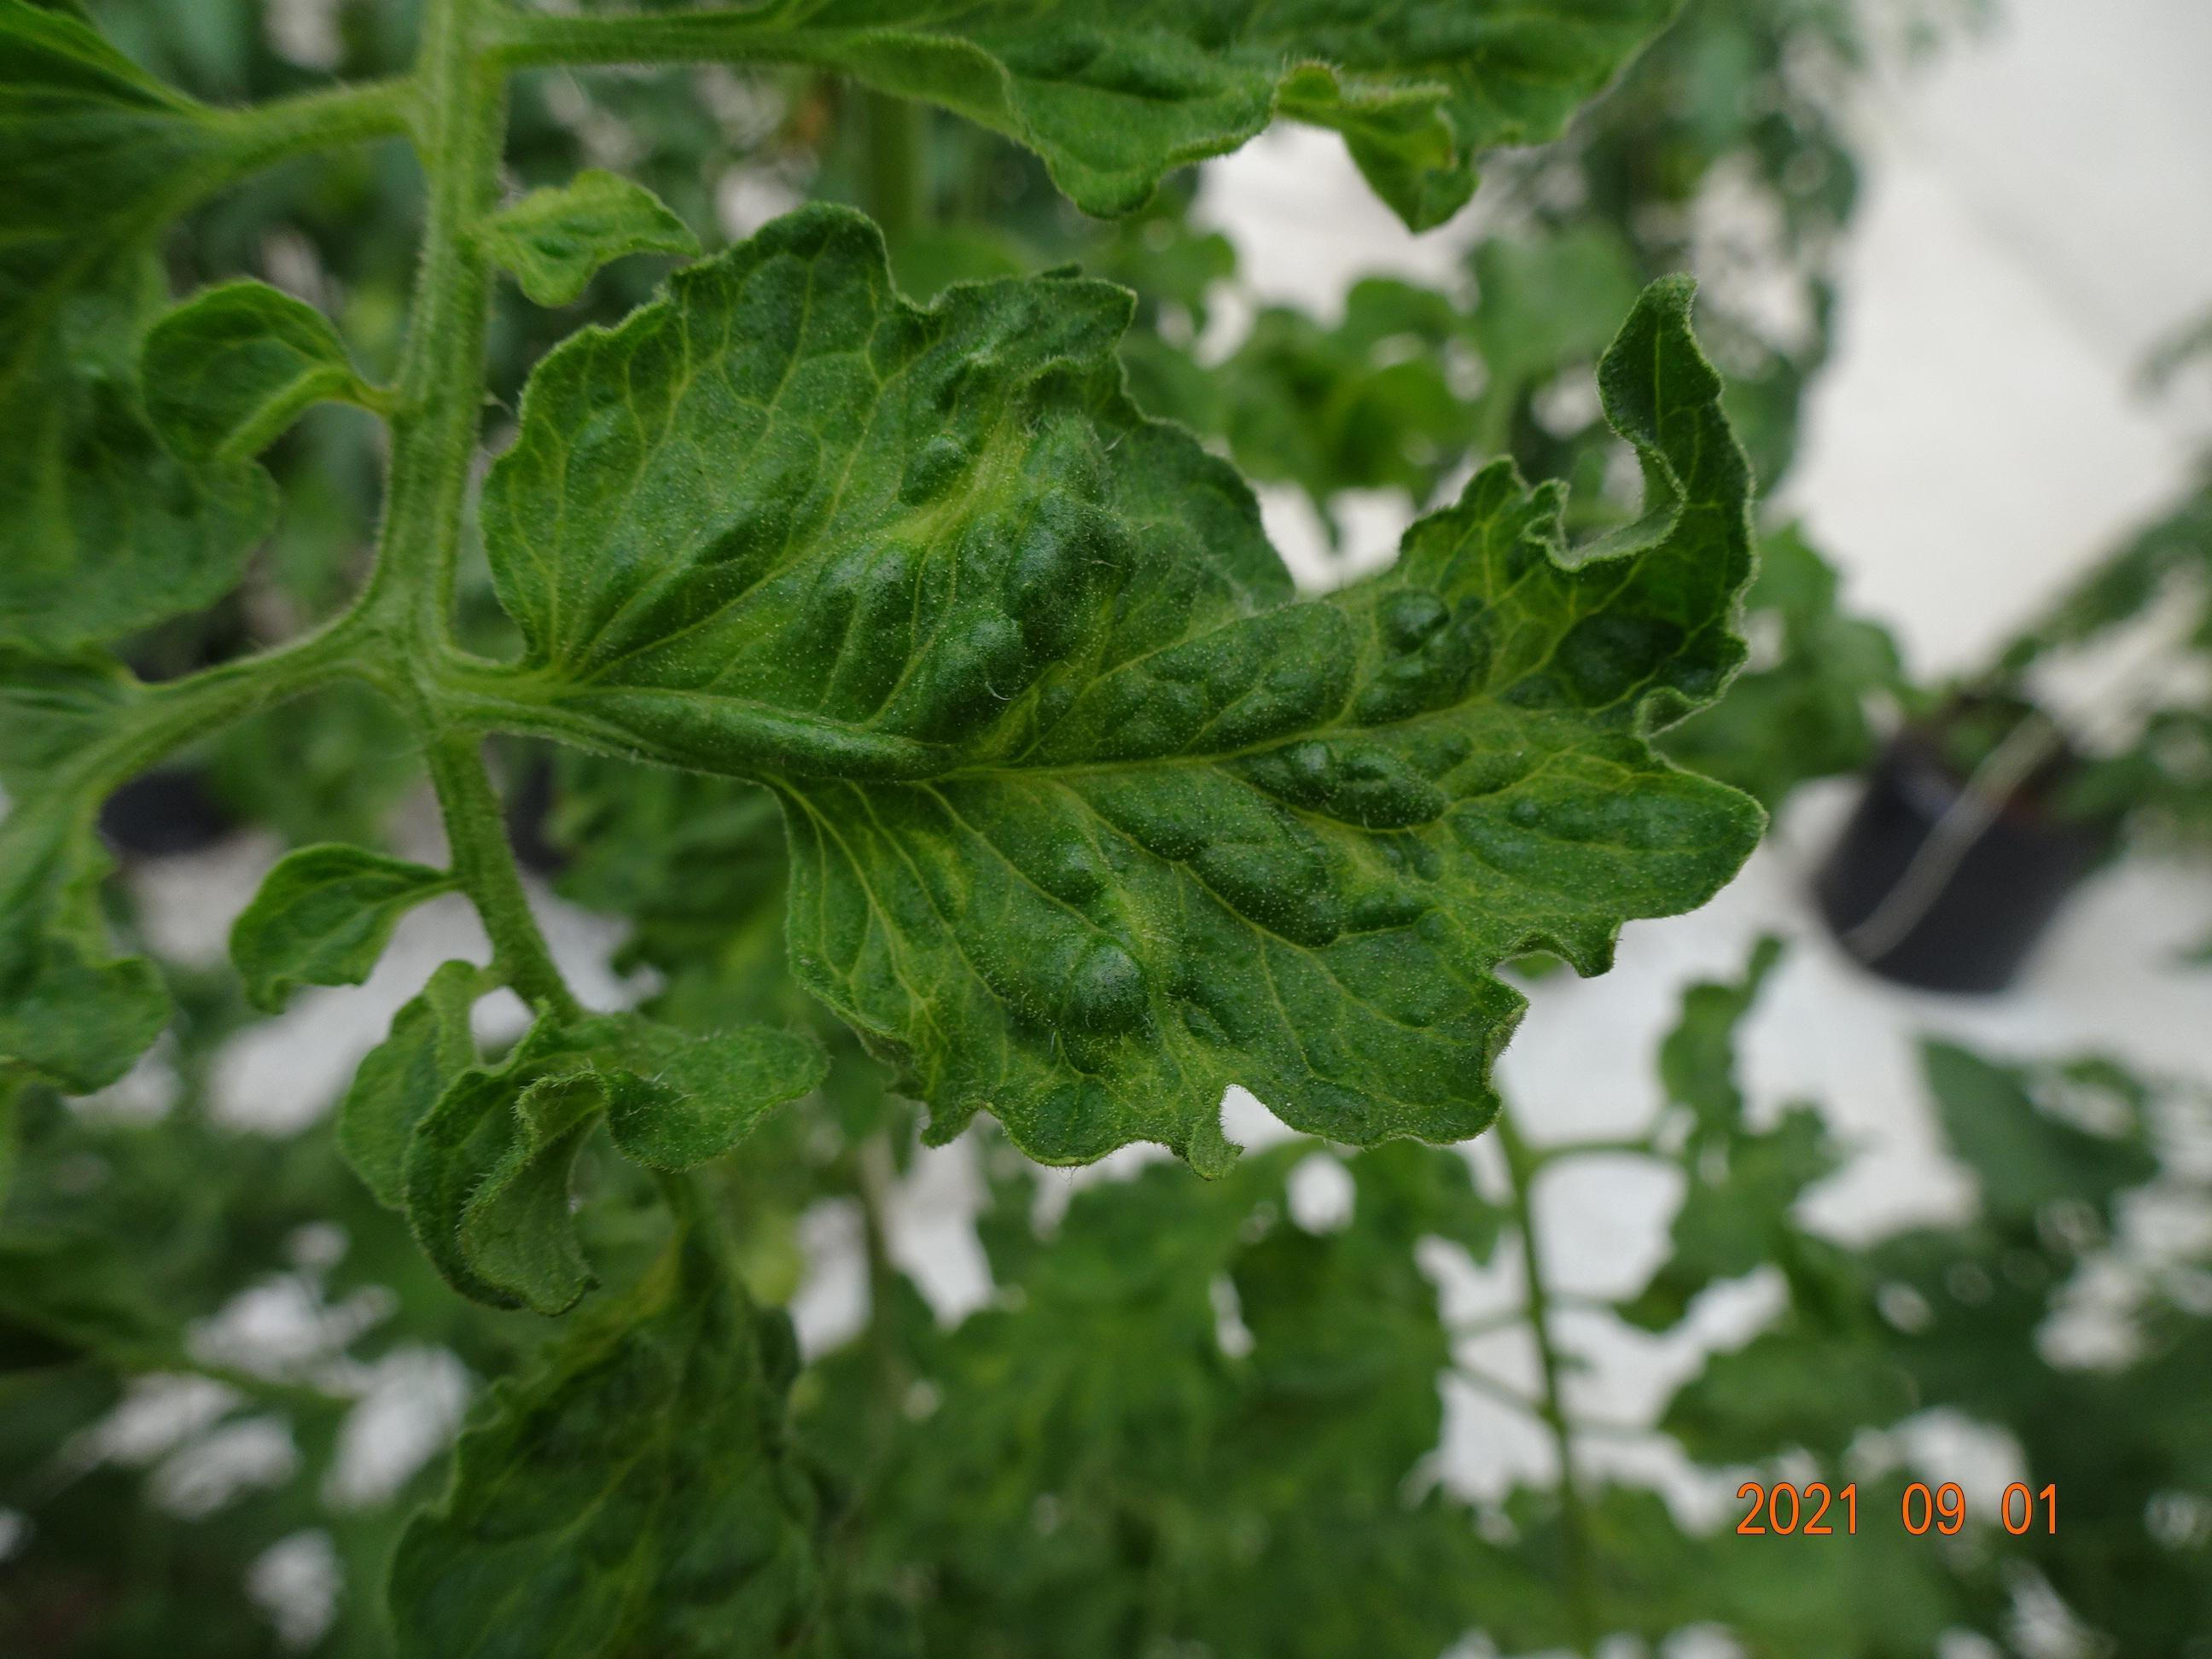Rugose leaf: (482, 209, 1771, 1173), (341, 1016, 826, 1314)
Rugose stem: (354, 0, 578, 1019)
